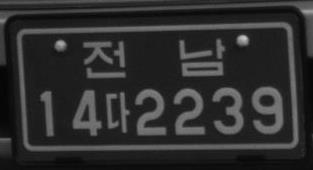1: (36, 89, 60, 137)
2: (173, 86, 207, 136), (134, 87, 167, 137)
3: (211, 86, 245, 136)
4: (71, 88, 102, 137)
9: (250, 85, 284, 135)
다: (104, 90, 130, 134)
전남_D: (81, 37, 226, 80)
